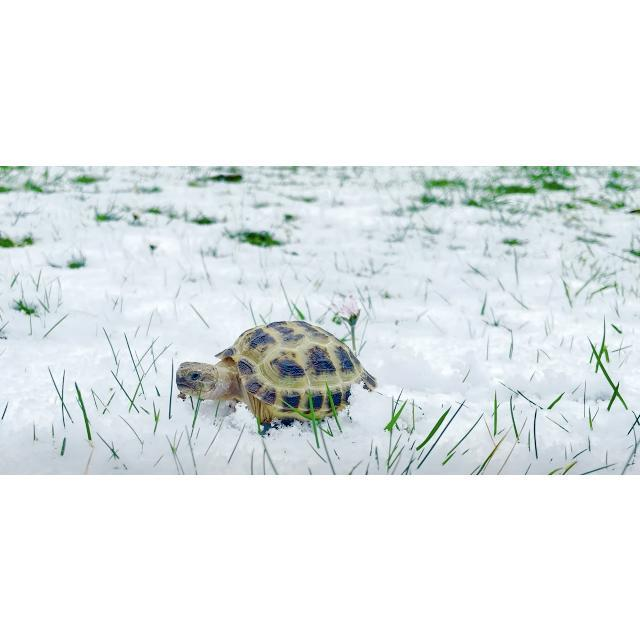turtle: (175, 320, 379, 434)
